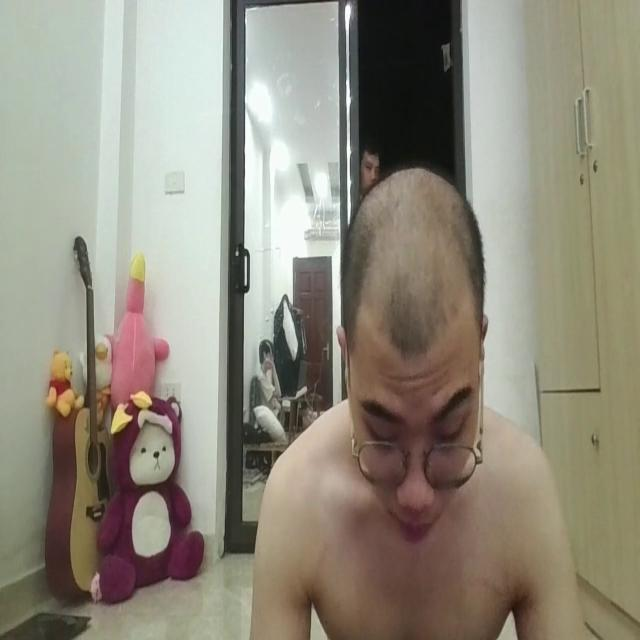extra_person: (251, 309, 303, 455), (344, 107, 384, 205)
student: (250, 153, 586, 640)
